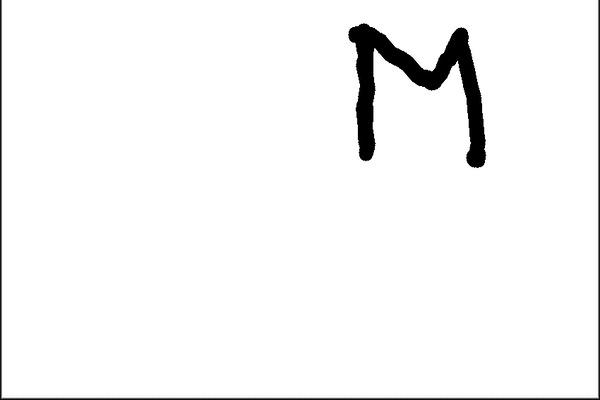M: (347, 21, 490, 168)
